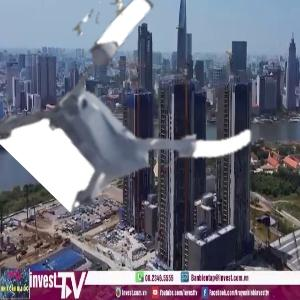drone: (25, 13, 245, 233)
